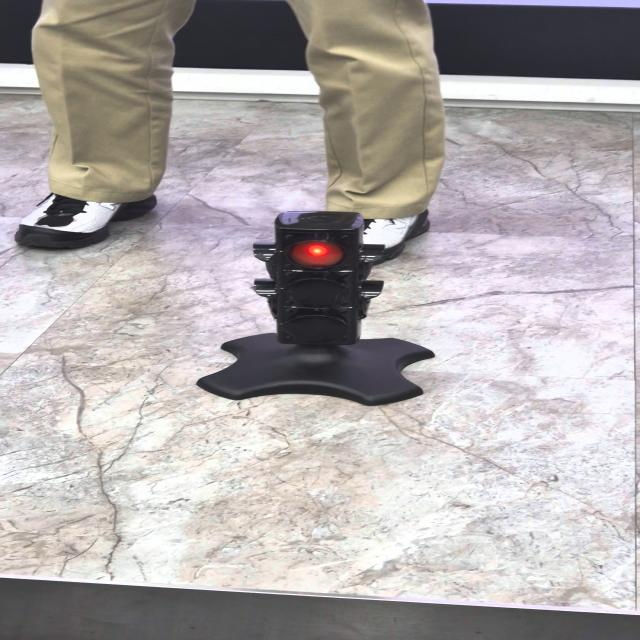red_light: (290, 241, 343, 267)
